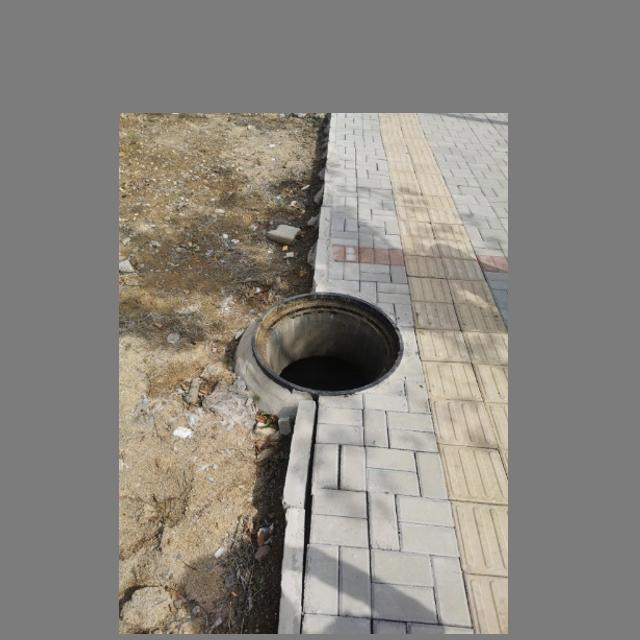lose: (252, 291, 406, 394)
